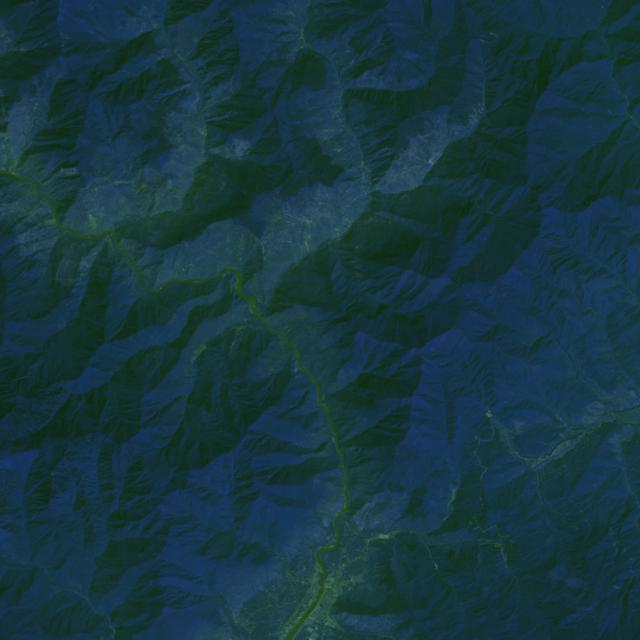landslides: (299, 441, 332, 461), (247, 235, 258, 260), (89, 215, 99, 234), (624, 123, 636, 138), (135, 183, 148, 196), (80, 258, 91, 272), (199, 326, 209, 340), (113, 203, 123, 217), (194, 126, 207, 136), (10, 376, 26, 384), (337, 424, 349, 434), (141, 328, 147, 347), (542, 442, 556, 450), (59, 167, 77, 173), (66, 522, 78, 531), (472, 108, 480, 121)
